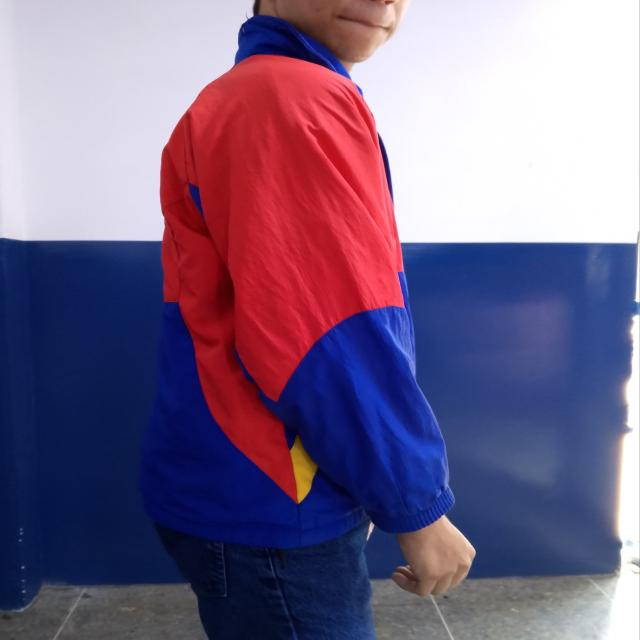chaqueta_unefa: (134, 14, 455, 550)
